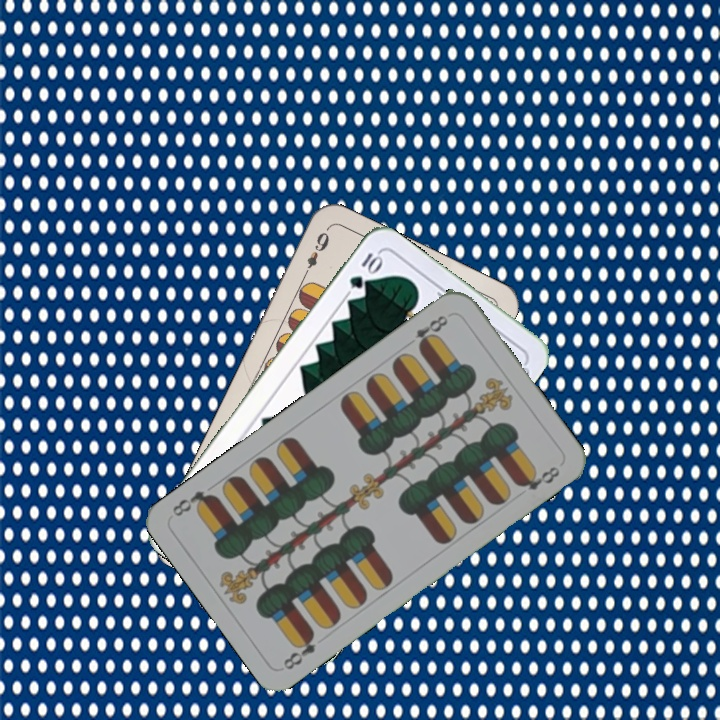E8: (402, 311, 451, 352), (279, 628, 318, 673)
E9: (299, 225, 332, 280)
G10: (345, 248, 385, 292)
